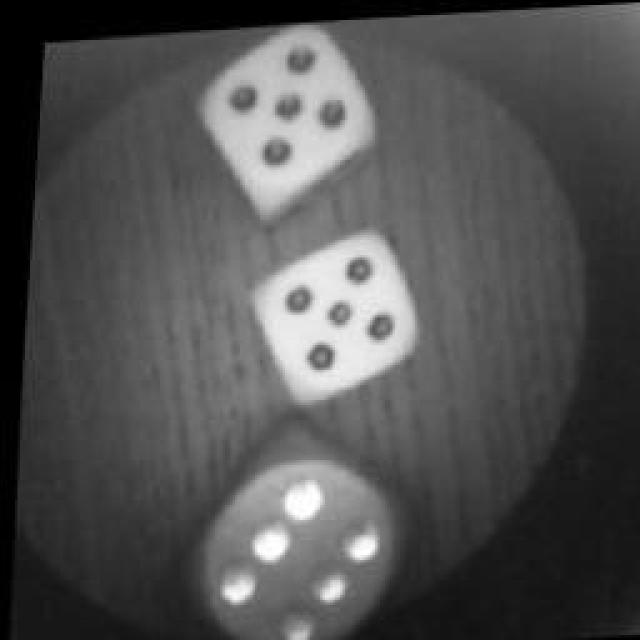dice_5: (188, 20, 378, 215), (240, 233, 415, 405)
dice_6: (175, 410, 423, 640)
